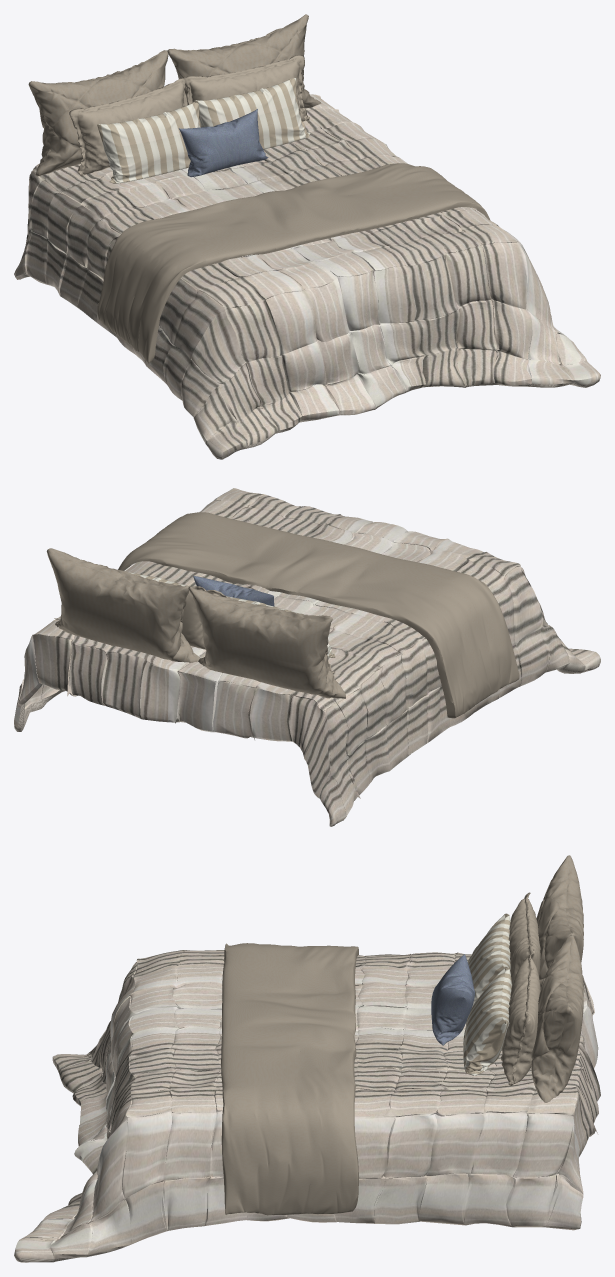
Rendered from bed2.glb.
3 views of the same model, one above another, from view 1: azimuth 30°, elevation 25°; view 2: azimuth 150°, elevation 25°; view 3: azimuth 270°, elevation 25° (orthographic). The views are drawn at different scales.
Visible parts, largest first — view 1: Object_9, Object_4, Object_5, Object_10, Object_6, Object_11, Object_8, Object_2, Object_7; view 2: Object_9, Object_4, Object_5, Object_6, Object_2, Object_7; view 3: Object_9, Object_4, Object_6, Object_5, Object_11, Object_7, Object_2, Object_10, Object_8.
Part boxes in pixels (box(x1,y1,x2,y2)): Object_9: box(14, 94, 600, 459); Object_4: box(97, 163, 490, 363); Object_5: box(28, 50, 168, 176); Object_10: box(97, 102, 200, 183); Object_6: box(167, 14, 321, 108); Object_11: box(194, 78, 310, 149); Object_8: box(69, 78, 187, 176); Object_2: box(179, 109, 268, 177); Object_7: box(184, 55, 309, 127); Object_9: box(14, 488, 600, 826); Object_4: box(118, 512, 519, 718); Object_5: box(188, 586, 345, 698); Object_6: box(46, 548, 200, 662); Object_2: box(193, 575, 274, 606); Object_7: box(96, 564, 206, 649); Object_9: box(14, 950, 600, 1262); Object_4: box(221, 943, 358, 1215); Object_6: box(531, 935, 583, 1102); Object_5: box(536, 855, 583, 986); Object_11: box(463, 967, 511, 1075); Object_7: box(501, 952, 540, 1085); Object_2: box(431, 954, 474, 1045); Object_10: box(468, 913, 510, 1007); Object_8: box(508, 892, 540, 986).
Size of the model in its own units: 2.28 by 1.2 by 2.75.
Materials: 6 (6 with a texture image).
